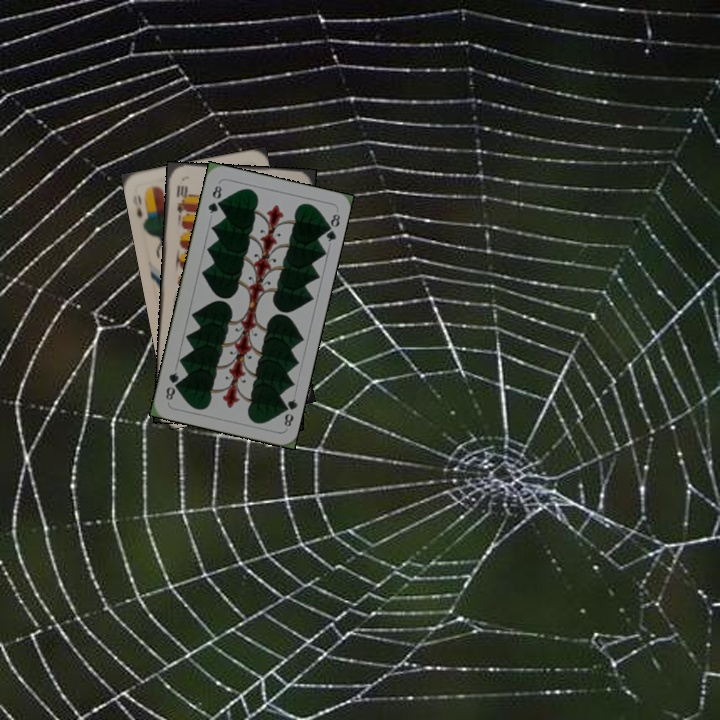E10: (173, 181, 189, 215)
EO: (133, 187, 151, 226)
G8: (278, 395, 300, 429), (204, 181, 224, 216)
